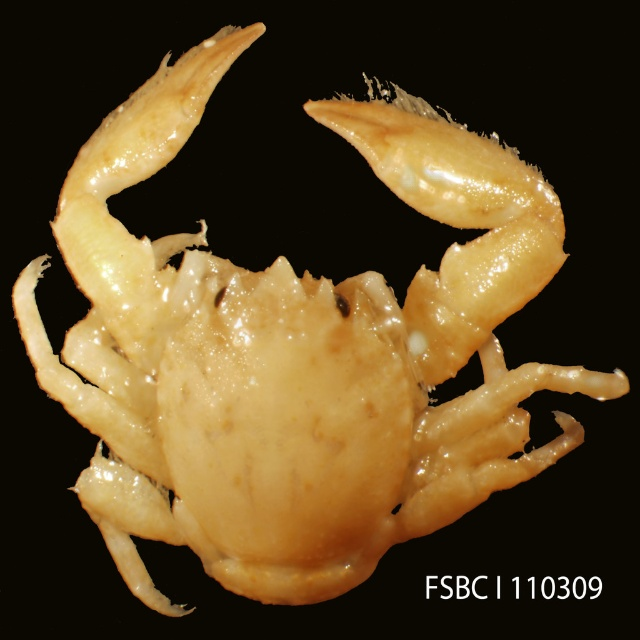Crab: (10, 22, 633, 620)
